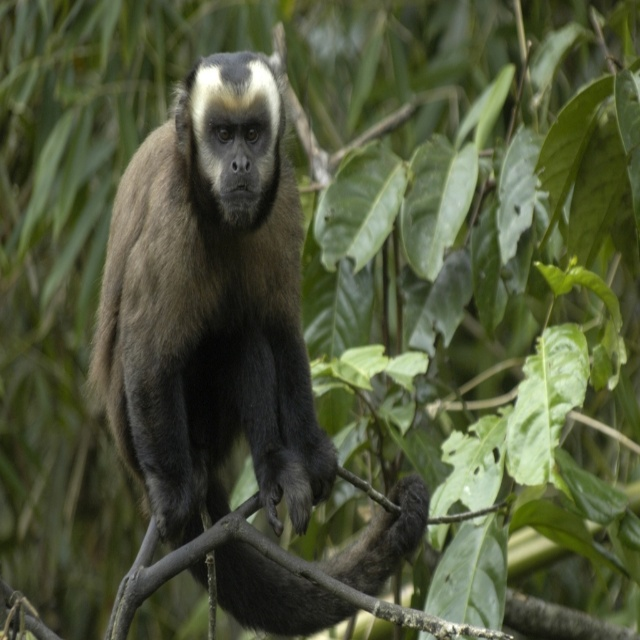Monkey: (79, 49, 434, 640)
